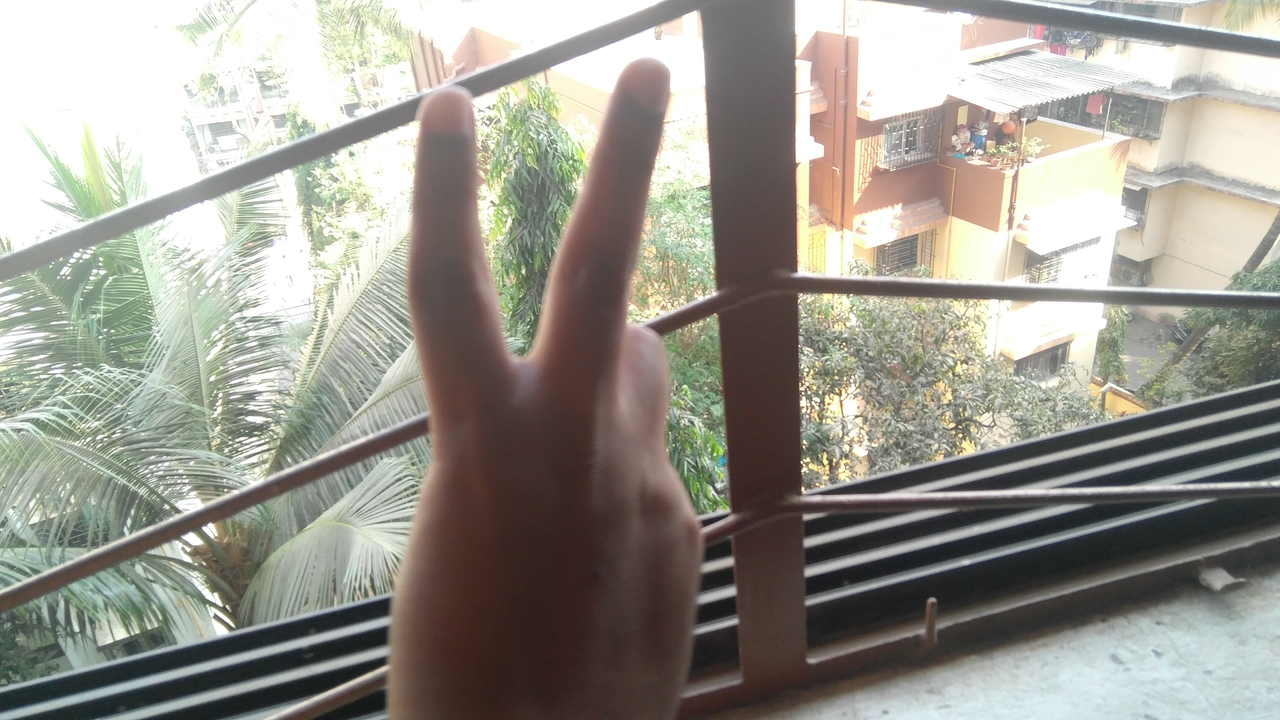fingertip: (410, 78, 478, 142), (612, 52, 671, 115)
